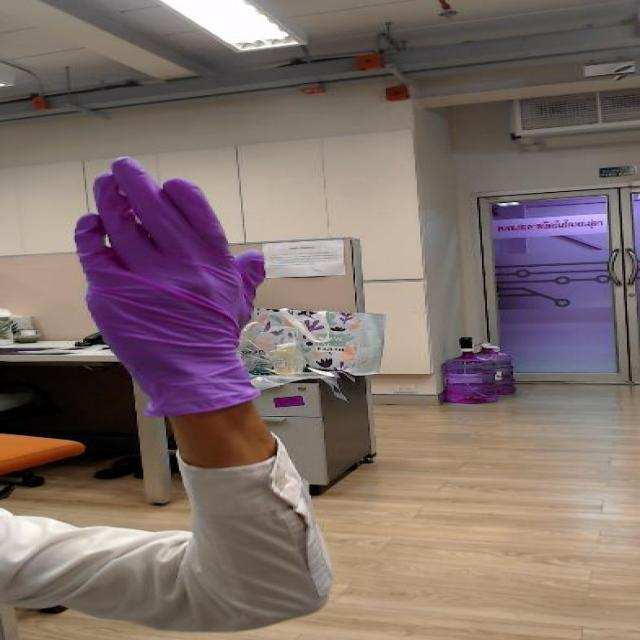gloved_hand: (52, 145, 292, 377)
